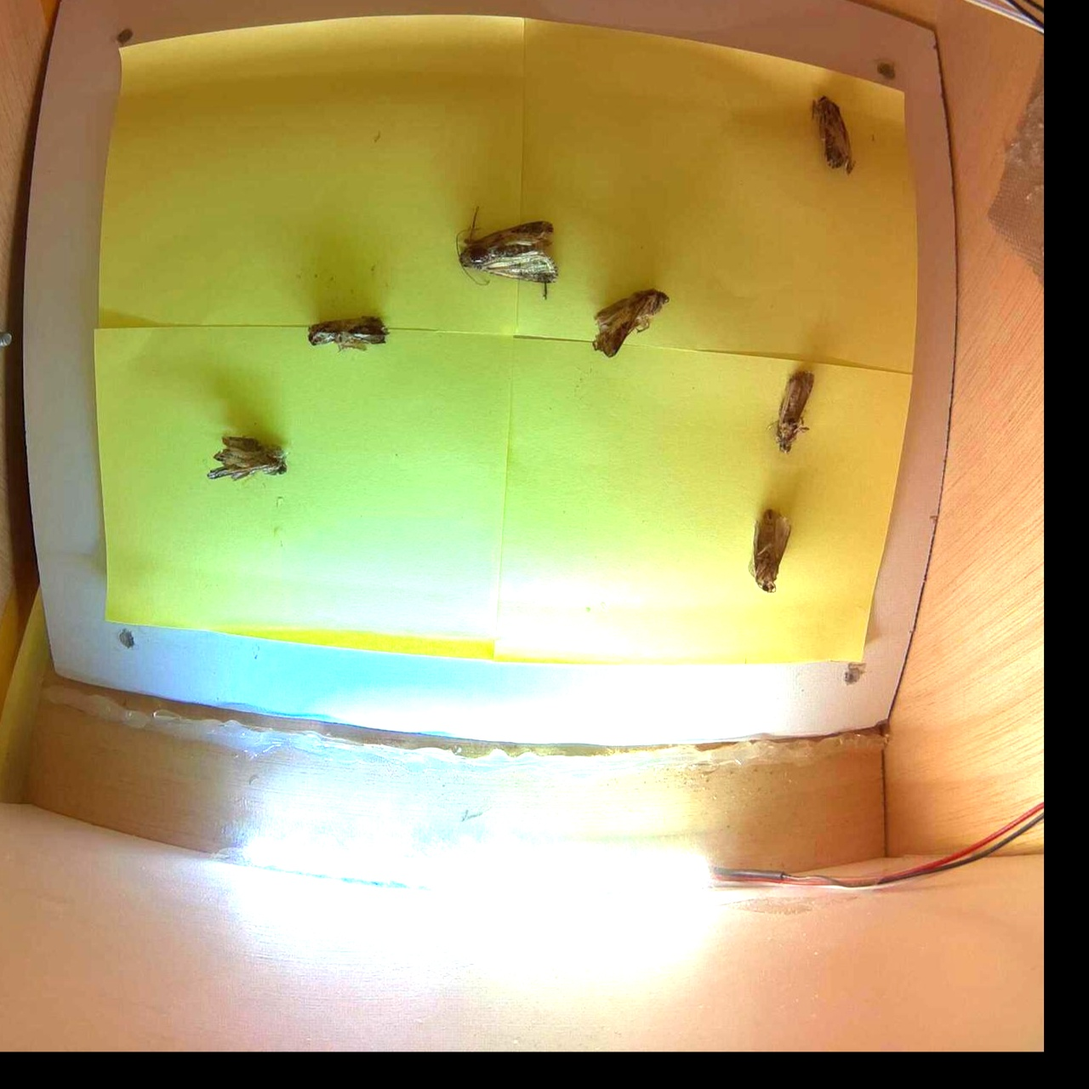Spodoptera litura: (458, 204, 558, 301), (592, 287, 669, 358), (207, 434, 288, 482), (812, 94, 858, 174), (774, 369, 816, 453), (753, 505, 791, 593), (305, 318, 390, 351)
